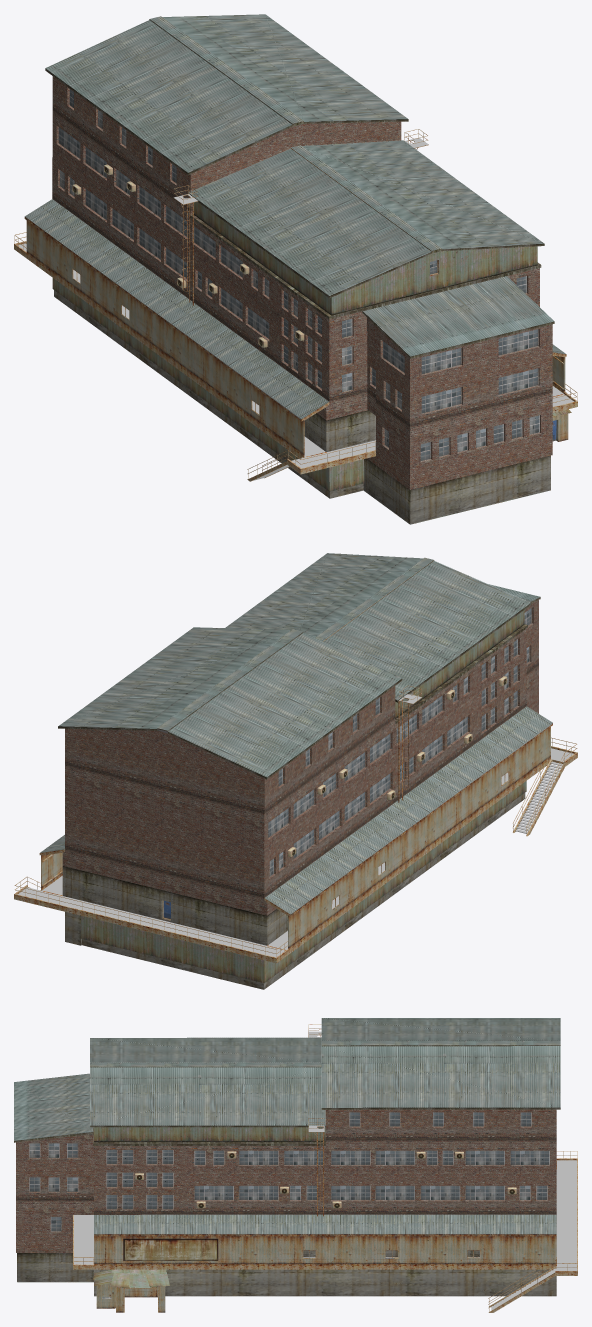
The model's file is building_1.FBX.
The picture shows the model from 3 angles, top to bottom: view 1: azimuth 30°, elevation 25°; view 2: azimuth 150°, elevation 25°; view 3: azimuth 270°, elevation 25°; orthographic projection. The views are drawn at different scales.
Parts seen in each view (by area): view 1: Mesh Object; view 2: Mesh Object; view 3: Mesh Object.
Part boxes in pixels (left/top/right/bottom): Mesh Object: left=14, top=14, right=577, bottom=524; Mesh Object: left=14, top=553, right=577, bottom=989; Mesh Object: left=14, top=1018, right=577, bottom=1312.
Bounding box in the file's own units: 27.46 × 22.26 × 54.05.
